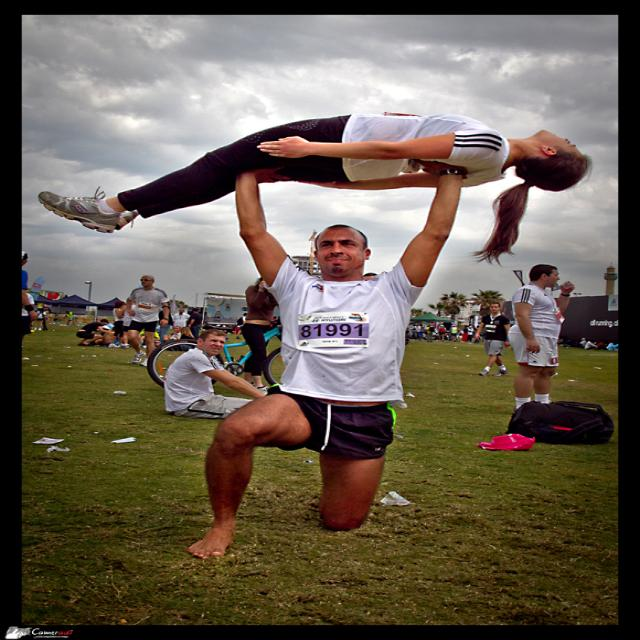Bib: (297, 320, 371, 342)
